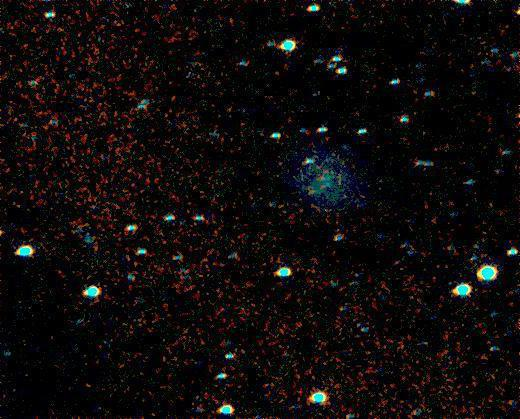star: (238, 190, 268, 220)
